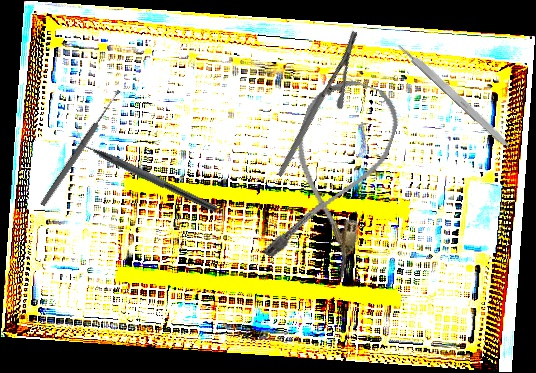Cannula: (258, 69, 407, 282)
Chopper: (69, 129, 223, 213)
Needle Holder: (240, 29, 394, 177)
Scalpel Handle: (394, 38, 517, 154)
Surgical Spoon: (39, 88, 123, 208)
